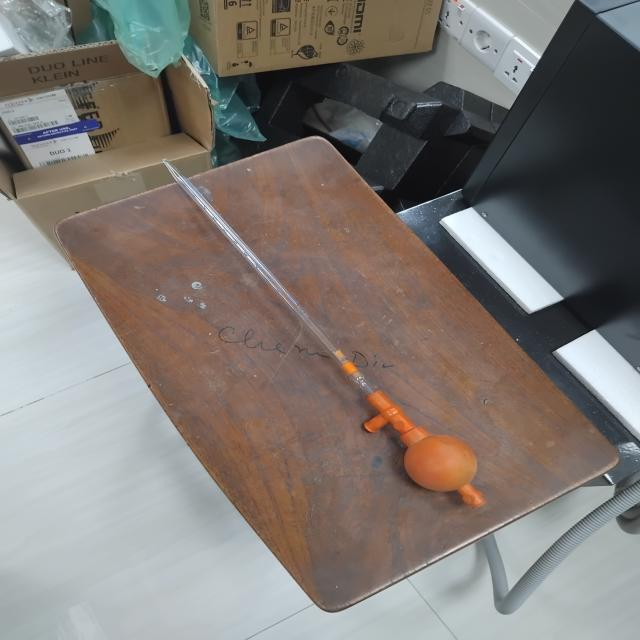Volumetric_Pipet: (142, 135, 509, 535)
